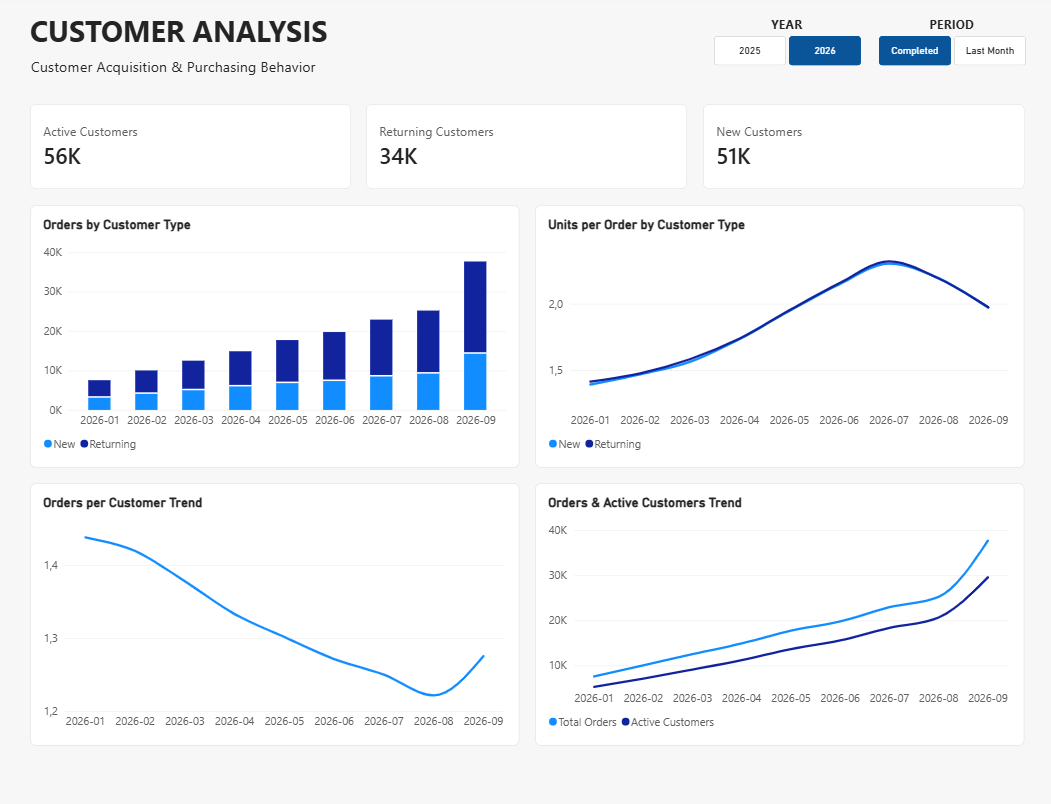

Layout of this report page (visuals, bound fields, positions):
{"tool":"powerbi","page":{"name":"Customer Analysis","canvas":[1366,1050],"ordinal":3},"visuals":[{"type":"columnChart","title":"Orders by Customer Type","fields":{"Category":["DimDate.YearMonth"],"Series":["orders.Customer Type"],"Y":["_Measures.Total Orders"]},"box":[40,270,633,340],"z":0},{"type":"lineChart","title":"Units per Order by Customer Type","fields":{"Category":["DimDate.YearMonth"],"Series":["orders.Customer Type"],"Y":["_Measures.Units per Order"]},"box":[693,270,633,340],"z":1000},{"type":"cardVisual","fields":{"Data":["_Measures.Active Customers"]},"box":[40,140,415,110],"z":2000},{"type":"lineChart","title":"Orders per Customer Trend","fields":{"Category":["DimDate.YearMonth"],"Y":["_Measures.Orders per Customer"]},"box":[40,630,633,340],"z":3000},{"type":"lineChart","title":"Orders & Active Customers Trend","fields":{"Category":["DimDate.YearMonth"],"Y":["_Measures.Total Orders","_Measures.Active Customers"]},"box":[693,630,633,340],"z":4000},{"type":"cardVisual","fields":{"Data":["_Measures.Returning Customers"]},"box":[475,140,415,110],"z":5000},{"type":"cardVisual","fields":{"Data":["_Measures.New Customers"]},"box":[910,140,416,110],"z":6000},{"type":"advancedSlicerVisual","fields":{"Values":["DimDate.MonthStatus"]},"box":[1138,52,190,38],"z":7000},{"type":"advancedSlicerVisual","fields":{"Values":["DimDate.Year"]},"box":[924,52,190,38],"z":8000},{"type":"textbox","box":[40,20,720,70],"z":9000},{"type":"textbox","box":[938.3,25.4,160,24],"z":10000},{"type":"textbox","box":[1152.7,25.4,160,24],"z":11000},{"type":"textbox","box":[42,78.4,450,25],"z":12000}]}

Visuals, with their boxes in screenshot pixels (x1, y1, x2, y2), scaled from the page's 1366x1050 canvas onto the 1051x804 screenshot:
"Orders by Customer Type" columnChart: [31,207,518,467]
"Units per Order by Customer Type" lineChart: [533,207,1020,467]
cardVisual - _Measures.Active Customers: [31,107,350,191]
"Orders per Customer Trend" lineChart: [31,482,518,743]
"Orders & Active Customers Trend" lineChart: [533,482,1020,743]
cardVisual - _Measures.Returning Customers: [365,107,685,191]
cardVisual - _Measures.New Customers: [700,107,1020,191]
advancedSlicerVisual - DimDate.MonthStatus: [876,40,1022,69]
advancedSlicerVisual - DimDate.Year: [711,40,857,69]
textbox: [31,15,585,69]
textbox: [722,19,845,38]
textbox: [887,19,1010,38]
textbox: [32,60,379,79]
